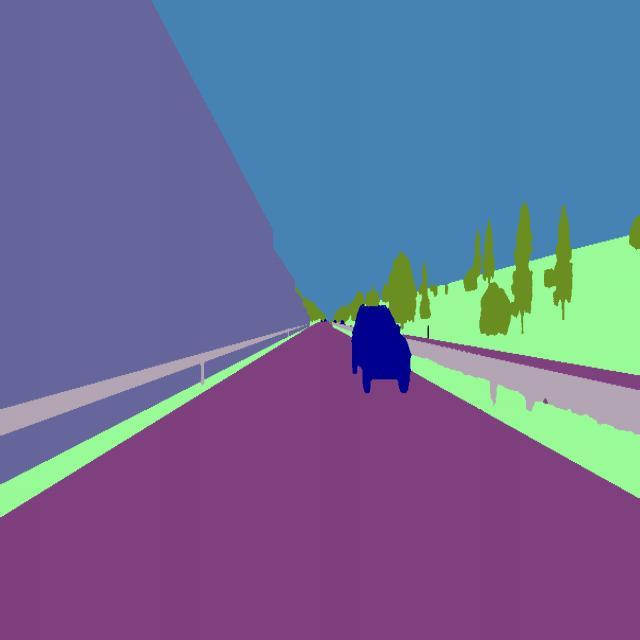safe: (348, 301, 414, 398)
